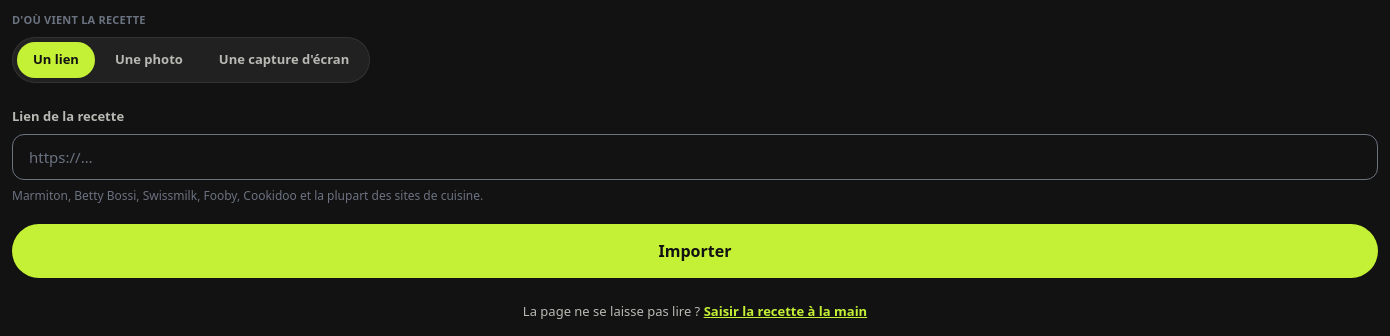
it: ImportForm › tells a subscriber that nothing is wired, which is on us and not on them
Click the button with test id "source-PHOTO".
click(149, 60)  # box [99,42,199,78]
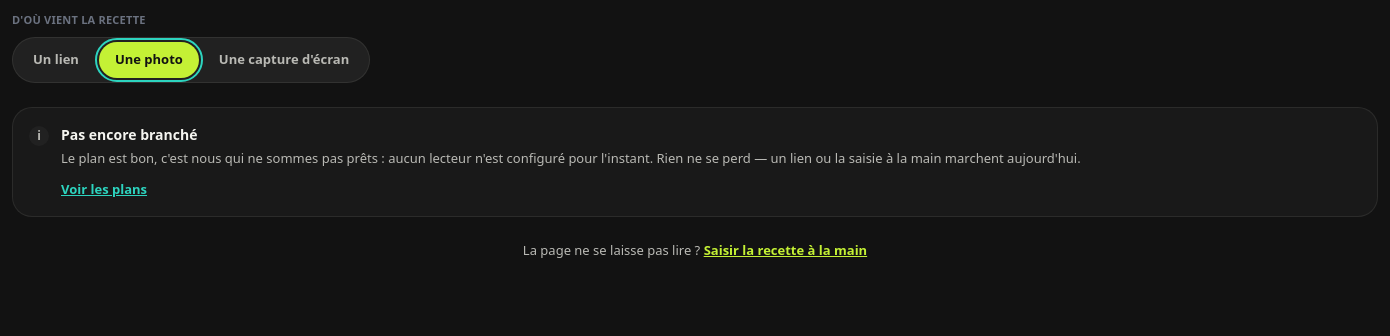
Check: the message with test id "import-closed-SOON" shows "Pas encore branché", box [61,124,197,144]
